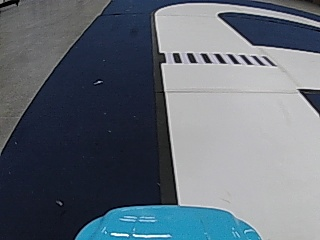CrossWalk: (159, 50, 274, 67)
